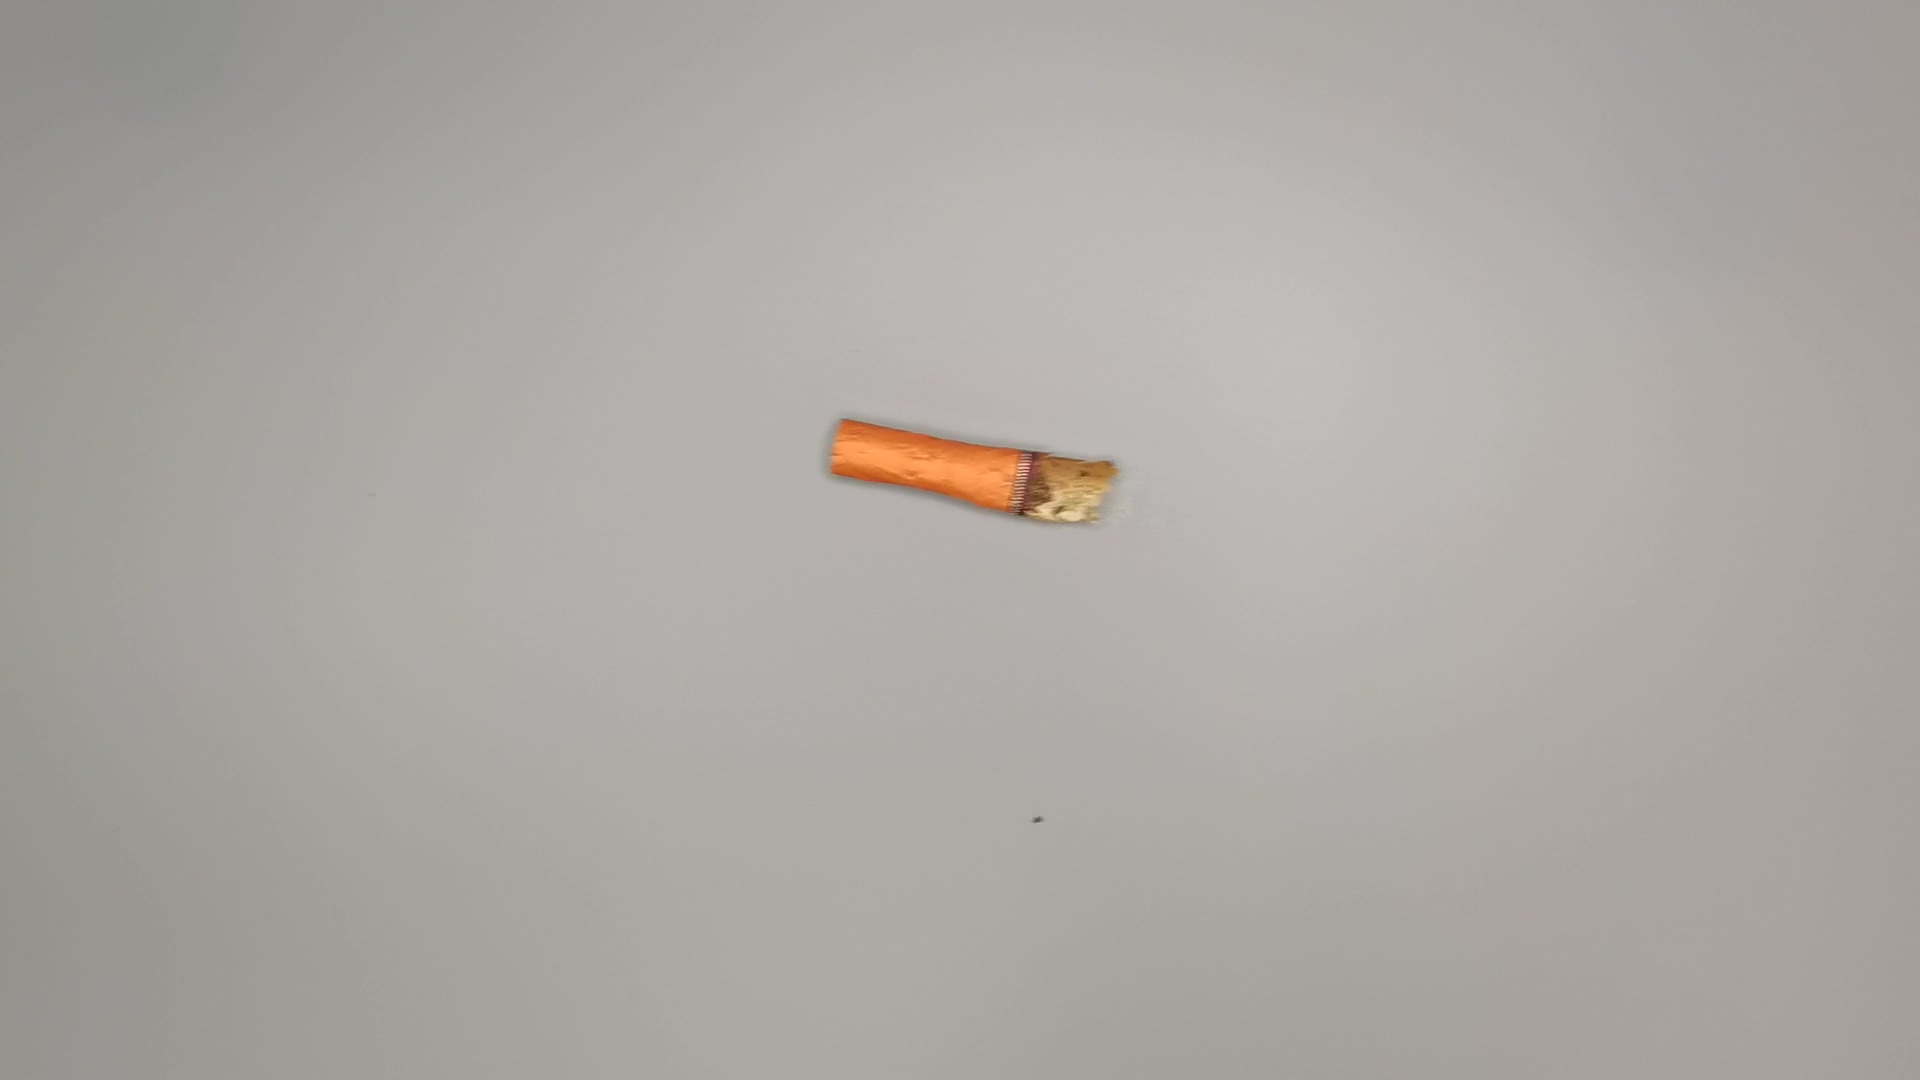cigarette: (812, 411, 1129, 531)
